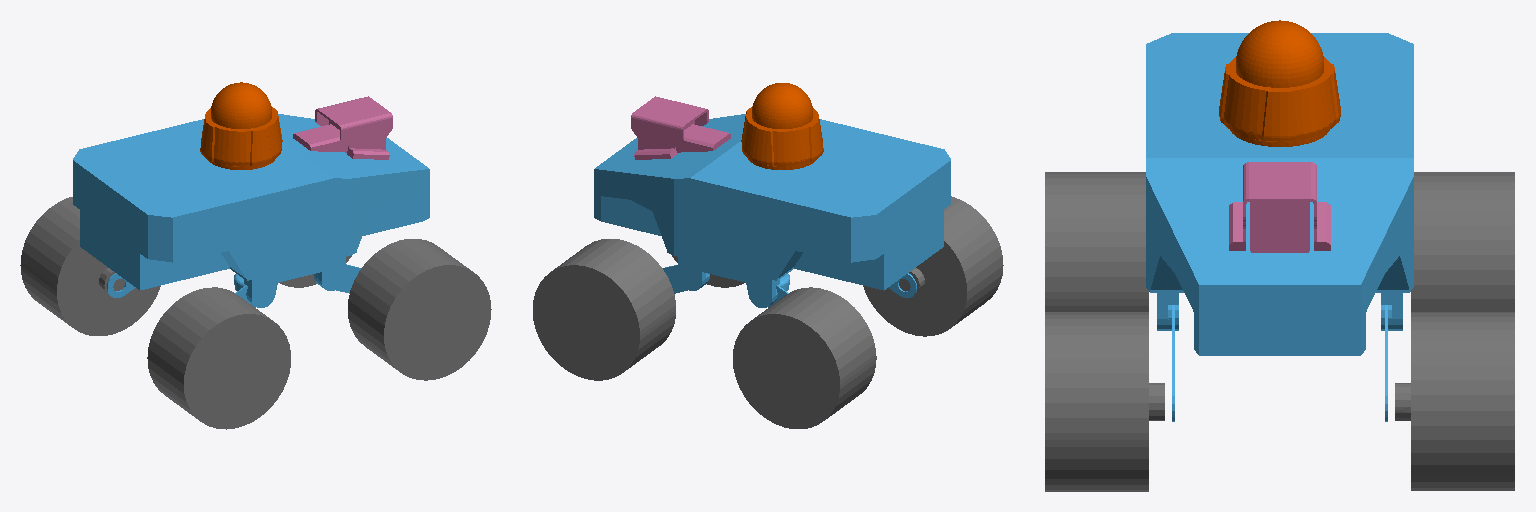
URDF robot description (summit_xl):
<?xml version="1.0" ?>
<!-- =================================================================================== -->
<!-- |    This document was autogenerated by xacro from summit_xl_fotonic.urdf.xacro   | -->
<!-- |    EDITING THIS FILE BY HAND IS NOT RECOMMENDED                                 | -->
<!-- =================================================================================== -->
<robot name="summit_xl" xmlns:xacro="http://www.ros.org/wiki/xacro">
  <!-- Import all Gazebo-customization elements, including Gazebo colors -->
  <gazebo>
    <plugin filename="libgazebo_ros_control.so" name="ros_control">
      <robotNamespace>/summit_xl</robotNamespace>
      <controlPeriod>0.001</controlPeriod>
      <robotSimType>gazebo_ros_control/DefaultRobotHWSim</robotSimType>
    </plugin>
  </gazebo>
  <gazebo reference="base_footprint">
    <material>Gazebo/Green</material>
  </gazebo>
  <gazebo reference="base_link">
    <material>Gazebo/Red</material>
  </gazebo>
  <gazebo reference="back_left_wheel">
    <mu1 value="4.0"/>
    <!-- 2.0 -->
    <mu2 value="1.0"/>
    <!-- 0.5 -->
    <fdir1 value="1 0 0"/>
    <material>Gazebo/Grey</material>
  </gazebo>
  <gazebo reference="back_right_wheel">
    <mu1 value="4.0"/>
    <!-- 2.0 -->
    <mu2 value="1.0"/>
    <!-- 0.5 -->
    <fdir1 value="1 0 0"/>
    <material>Gazebo/Grey</material>
  </gazebo>
  <gazebo reference="front_left_wheel">
    <mu1 value="4.0"/>
    <!-- 2.0 -->
    <mu2 value="1.0"/>
    <!-- 0.5 -->
    <fdir1 value="1 0 0"/>
    <material>Gazebo/Grey</material>
  </gazebo>
  <gazebo reference="front_right_wheel">
    <mu1 value="4.0"/>
    <!-- 2.0 -->
    <mu2 value="1.0"/>
    <!-- 0.5 -->
    <fdir1 value="1 0 0"/>
    <material>Gazebo/Grey</material>
  </gazebo>
  <gazebo reference="gps_link">
    <material>Gazebo/White</material>
    <gravity>true</gravity>
  </gazebo>
  <gazebo reference="camera_link">
    <mu1>0.2</mu1>
    <mu2>0.2</mu2>
    <material>Gazebo/Red</material>
    <sensor name="camera1" type="camera">
      <update_rate>30.0</update_rate>
      <camera name="head">
        <horizontal_fov>1.3962634</horizontal_fov>
        <image>
          <width>800</width>
          <height>800</height>
          <format>R8G8B8</format>
        </image>
        <clip>
          <near>0.02</near>
          <far>300</far>
        </clip>
        <noise>
          <type>gaussian</type>
          <!-- Noise is sampled independently per pixel on each frame.  
               That pixel's noise value is added to each of its color
               channels, which at that point lie in the range [0,1]. -->
          <mean>0.0</mean>
          <stddev>0.007</stddev>
        </noise>
      </camera>
      <plugin filename="libgazebo_ros_camera.so" name="camera_controller">
        <alwaysOn>true</alwaysOn>
        <updateRate>0.0</updateRate>
        <cameraName>/summit_xl/camera1</cameraName>
        <imageTopicName>image_raw</imageTopicName>
        <cameraInfoTopicName>camera_info</cameraInfoTopicName>
        <frameName>camera_link</frameName>
        <hackBaseline>0.07</hackBaseline>
        <distortionK1>0.0</distortionK1>
        <distortionK2>0.0</distortionK2>
        <distortionK3>0.0</distortionK3>
        <distortionT1>0.0</distortionT1>
        <distortionT2>0.0</distortionT2>
      </plugin>
    </sensor>
  </gazebo>
  <gazebo reference="hokuyo_laser_link">
    <!-- sensor type="gpu_ray" name="head_hokuyo_sensor" -->
    <sensor name="head_hokuyo_sensor" type="ray">
      <pose>0 0 0 0 0 0</pose>
      <visualize>false</visualize>
      <update_rate>30</update_rate>
      <ray>
        <scan>
          <horizontal>
            <samples>720</samples>
            <resolution>1</resolution>
            <min_angle>-1.570796</min_angle>
            <max_angle>1.570796</max_angle>
          </horizontal>
        </scan>
        <range>
          <min>0.10</min>
          <max>30.0</max>
          <resolution>0.01</resolution>
        </range>
        <noise>
          <type>gaussian</type>
          <mean>0.0</mean>
          <stddev>0.01</stddev>
        </noise>
      </ray>
      <!-- plugin name="gazebo_ros_head_hokuyo_controller" filename="libgazebo_ros_gpu_laser.so" -->
      <plugin filename="libgazebo_ros_laser.so" name="gazebo_ros_head_hokuyo_controller">
        <topicName>/scan</topicName>
        <frameName>hokuyo_laser_link</frameName>
      </plugin>
    </sensor>
  </gazebo>
  <gazebo>
    <plugin filename="libgazebo_ros_imu.so" name="ros_imu">
      <robotNamespace>/summit_xl</robotNamespace>
      <topicName>imu_data</topicName>
      <bodyName>imu_link </bodyName>
      <serviceName>/imu_service</serviceName>
      <gaussianNoise>0.001</gaussianNoise>
    </plugin>
  </gazebo>
  <gazebo reference="kinect_depth_frame">
    <sensor name="fotonic" type="depth">
      <update_rate>30.0</update_rate>
      <camera name="fotonic">
        <horizontal_fov>1.221730476</horizontal_fov>
        <!-- 70 deg -->
        <image>
          <width>800</width>
          <!-- 160 -->
          <height>600</height>
          <!-- 120 -->
          <format>R8G8B8</format>
        </image>
        <clip>
          <near>0.05</near>
          <far>7.0</far>
          <!-- outdoor down to 3m depending on luminosity -->
        </clip>
        <noise>
          <type>gaussian</type>
          <mean>0.0</mean>
          <stddev>0.007</stddev>
        </noise>
      </camera>
      <plugin filename="libgazebo_ros_openni_kinect.so" name="kinect_depth_optical_frame_controller">
        <baseline>0.2</baseline>
        <alwaysOn>true</alwaysOn>
        <updateRate>1.0</updateRate>
        <cameraName>fotonic_3dcamera</cameraName>
        <imageTopicName>/fotonic_3dcamera/image_raw</imageTopicName>
        <cameraInfoTopicName>/fotonic/depth/camera_info</cameraInfoTopicName>
        <depthImageTopicName>/fotonic/depth/image_raw</depthImageTopicName>
        <depthImageInfoTopicName>/fotonic_3dcamera/depth/camera_info</depthImageInfoTopicName>
        <depthImageCameraInfoTopicName>/fotonic_3dcamera/camera_info</depthImageCameraInfoTopicName>
        <pointCloudTopicName>/fotonic_3dcamera/depth/points</pointCloudTopicName>
        <frameName>kinect_depth_optical_frame</frameName>
        <pointCloudCutoff>0.5</pointCloudCutoff>
        <distortionK1>0.00000001</distortionK1>
        <distortionK2>0.00000001</distortionK2>
        <distortionK3>0.00000001</distortionK3>
        <distortionT1>0.00000001</distortionT1>
        <distortionT2>0.00000001</distortionT2>
        <CxPrime>0</CxPrime>
        <Cx>0</Cx>
        <Cy>0</Cy>
        <focalLength>0</focalLength>
        <hackBaseline>0</hackBaseline>
      </plugin>
    </sensor>
  </gazebo>
  <!-- Constants for robot dimensions -->
  <!-- x,y,z in base_footprint CS -->
  <!-- Used for fixing robot to Gazebo 'base_link' -->
  <!-- link name="world"/>
  <joint name="fwf" type="planar">
    <parent link="world"/>
    <child link="base_footprint"/>
  </joint -->
  <!-- BASE FOOTPRINT -->
  <!-- base_footprint is a fictitious link(frame) that is on the ground right below base_link origin,
             navigation stack depends on this frame -->
  <link name="base_footprint">
    <visual>
      <origin rpy="0 0 0" xyz="0 0 0"/>
      <geometry>
        <box size="0.001 0.001 0.001"/>
      </geometry>
    </visual>
    <collision>
      <origin rpy="0 0 0" xyz="0 0 0"/>
      <geometry>
        <box size="0.001 0.001 0.001"/>
      </geometry>
    </collision>
  </link>
  <joint name="base_footprint_joint" type="fixed">
    <!--NB: While you would think this would make it go up, it is oddly reversed.
      This moves the joint to 0,0,0 where we want it for rviz, etc. -->
    <origin rpy="0 0 0" xyz="0 0 0.050"/>
    <parent link="base_footprint"/>
    <child link="base_link"/>
  </joint>
  <!-- BASE_LINK (RED) -->
  <link name="base_link">
    <inertial>
      <mass value="25.0"/>
      <origin xyz="0 0 0"/>
      <inertia ixx="1.391" ixy="0.004" ixz="0.0" iyy="6.853" iyz="0.0" izz="6.125"/>
    </inertial>
    <visual>
      <origin rpy="0 0 0" xyz="0 0 0"/>
      <geometry>
        <mesh filename="package://summit_xl_description/meshes/xl_fotonic/chassis.dae"/>
      </geometry>
    </visual>
    <collision>
      <origin rpy="0 0 0 " xyz="0 0 0"/>
      <geometry>
        <mesh filename="package://summit_xl_description/meshes/xl_fotonic/chassis.dae"/>
        <box size="0.750 0.4 0.3"/>
      </geometry>
    </collision>
  </link>
  <gazebo reference="base_link">
    <material>Gazebo/Red</material>
    <gravity>true</gravity>
  </gazebo>
  <!-- BACK LEFT WHEEL (GREY) -->
  <link name="back_left_wheel">
    <inertial>
      <mass value="1.250"/>
      <origin xyz="0 0 0"/>
      <inertia ixx="0.0109375" ixy="0.0" ixz="0.0" iyy="0.021125" iyz="0.0" izz="0.0109375"/>
    </inertial>
    <visual>
      <origin rpy="0 0 0" xyz="0 0 0"/>
      <geometry>
        <mesh filename="package://summit_xl_description/meshes/xl_fotonic/wheel.dae" scale="1.0 1.0 1.0"/>
      </geometry>
      <material name="grey">
        <color rgba="0.5 0.5 0.5 1"/>
      </material>
    </visual>
    <collision>
      <origin rpy="0 0 0" xyz="0 0 0"/>
      <geometry>
        <mesh filename="package://summit_xl_description/meshes/xl_fotonic/wheel.dae" scale="1.0 1.0 1.0"/>
      </geometry>
    </collision>
  </link>
  <joint name="joint_back_left_wheel" type="continuous">
    <parent link="base_link"/>
    <child link="back_left_wheel"/>
    <origin rpy="0 0 0" xyz="-0.223 0.154 0"/>
    <axis rpy="0 0 0" xyz="0 1 0"/>
    <limit effort="100.0" velocity="100.0"/>
    <joint_properties damping="0.0" friction="{wheel_joint_friction}"/>
  </joint>
  <transmission name="joint_blw_trans">
    <type>transmission_interface/SimpleTransmission</type>
    <joint name="joint_back_left_wheel"/>
    <actuator name="joint_blw_motor">
      <hardwareInterface>EffortJointInterface</hardwareInterface>
      <!-- hardwareInterface>VelocityJointInterface</hardwareInterface -->
      <mechanicalReduction>1.0</mechanicalReduction>
      <!-- motorTorqueConstant>1</motorTorqueConstant -->
    </actuator>
  </transmission>
  <!-- BACK RIGHT WHEEL (GREY) -->
  <link name="back_right_wheel">
    <inertial>
      <mass value="1.250"/>
      <origin xyz="0 0 0"/>
      <inertia ixx="0.0109375" ixy="0.0" ixz="0.0" iyy="0.021125" iyz="0.0" izz="0.0109375"/>
    </inertial>
    <visual>
      <origin rpy="0 0 0" xyz="0 0 0"/>
      <geometry>
        <mesh filename="package://summit_xl_description/meshes/xl_fotonic/wheel.dae" scale="1.0 1.0 1.0"/>
        <!-- cylinder radius="0.125" length="0.1"/ -->
      </geometry>
      <material name="grey">
        <color rgba="0.5 0.5 0.5 1"/>
      </material>
    </visual>
    <collision>
      <origin rpy="0 0 0" xyz="0 0 0"/>
      <geometry>
        <mesh filename="package://summit_xl_description/meshes/xl_fotonic/wheel.dae" scale="1.0 1.0 1.0"/>
        <!-- cylinder radius="0.125" length="0.1"/ -->
      </geometry>
    </collision>
  </link>
  <joint name="joint_back_right_wheel" type="continuous">
    <parent link="base_link"/>
    <child link="back_right_wheel"/>
    <origin rpy="0 0 3.1416" xyz="-0.223 -0.154 0"/>
    <axis rpy="0 0 0" xyz="0 1 0"/>
    <limit effort="100.0" velocity="100.0"/>
    <joint_properties damping="0.0" friction="{wheel_joint_friction}"/>
  </joint>
  <transmission name="joint_brw_trans">
    <type>transmission_interface/SimpleTransmission</type>
    <joint name="joint_back_right_wheel"/>
    <actuator name="joint_brw_motor">
      <hardwareInterface>EffortJointInterface</hardwareInterface>
      <!-- hardwareInterface>VelocityJointInterface</hardwareInterface -->
      <mechanicalReduction>1.0</mechanicalReduction>
      <!-- motorTorqueConstant>1</motorTorqueConstant -->
    </actuator>
  </transmission>
  <!-- FRONT LEFT WHEEL (GREY) -->
  <link name="front_left_wheel">
    <inertial>
      <mass value="1.250"/>
      <origin xyz="0 0 0"/>
      <inertia ixx="0.0109375" ixy="0.0" ixz="0.0" iyy="0.021125" iyz="0.0" izz="0.0109375"/>
    </inertial>
    <visual>
      <origin rpy="0 0 0" xyz="0 0 0"/>
      <geometry>
        <mesh filename="package://summit_xl_description/meshes/xl_fotonic/wheel.dae" scale="1.0 1.0 1.0"/>
        <!-- cylinder radius="0.125" length="0.1"/ -->
      </geometry>
      <material name="grey">
        <color rgba="0.5 0.5 0.5 1"/>
      </material>
    </visual>
    <collision>
      <origin rpy="0 0 0" xyz="0 0 0"/>
      <geometry>
        <mesh filename="package://summit_xl_description/meshes/xl_fotonic/wheel.dae" scale="1.0 1.0 1.0"/>
        <!-- cylinder radius="0.125" length="0.1"/ -->
      </geometry>
    </collision>
  </link>
  <joint name="joint_front_left_wheel" type="continuous">
    <parent link="base_link"/>
    <child link="front_left_wheel"/>
    <origin rpy="0 0 0" xyz="0.223 0.154 0"/>
    <axis rpy="0 0 0" xyz="0 1 0"/>
    <limit effort="100.0" velocity="100.0"/>
    <joint_properties damping="0.0" friction="{wheel_joint_friction}"/>
  </joint>
  <transmission name="joint_flw_trans">
    <type>transmission_interface/SimpleTransmission</type>
    <joint name="joint_front_left_wheel"/>
    <actuator name="joint_flw_motor">
      <hardwareInterface>EffortJointInterface</hardwareInterface>
      <!-- hardwareInterface>VelocityJointInterface</hardwareInterface -->
      <mechanicalReduction>1.0</mechanicalReduction>
      <!-- motorTorqueConstant>1</motorTorqueConstant -->
    </actuator>
  </transmission>
  <!-- FRONT RIGHT WHEEL (GREY) -->
  <link name="front_right_wheel">
    <inertial>
      <mass value="1.250"/>
      <origin xyz="0 0 0"/>
      <inertia ixx="0.0109375" ixy="0.0" ixz="0.0" iyy="0.021125" iyz="0.0" izz="0.0109375"/>
    </inertial>
    <visual>
      <origin rpy="0 0 0" xyz="0 0 0"/>
      <geometry>
        <mesh filename="package://summit_xl_description/meshes/xl_fotonic/wheel.dae" scale="1.0 1.0 1.0"/>
      </geometry>
      <material name="grey">
        <color rgba="0.5 0.5 0.5 1"/>
      </material>
    </visual>
    <collision>
      <origin rpy="0 0 0" xyz="0 0 0"/>
      <geometry>
        <mesh filename="package://summit_xl_description/meshes/xl_fotonic/wheel.dae" scale="1.0 1.0 1.0"/>
      </geometry>
    </collision>
  </link>
  <joint name="joint_front_right_wheel" type="continuous">
    <parent link="base_link"/>
    <child link="front_right_wheel"/>
    <origin rpy="0 0 3.1416" xyz="0.223 -0.154 0"/>
    <axis rpy="0 0 0" xyz="0 1 0"/>
    <limit effort="100.0" velocity="100.0"/>
    <joint_properties damping="0.0" friction="{wheel_joint_friction}"/>
  </joint>
  <transmission name="joint_frw_trans">
    <type>transmission_interface/SimpleTransmission</type>
    <joint name="joint_front_right_wheel"/>
    <actuator name="joint_frw_motor">
      <hardwareInterface>EffortJointInterface</hardwareInterface>
      <!-- hardwareInterface>VelocityJointInterface</hardwareInterface -->
      <mechanicalReduction>1.0</mechanicalReduction>
      <!-- motorTorqueConstant>1</motorTorqueConstant -->
    </actuator>
    <!-- motorTorqueConstant>1</motorTorqueConstant -->
  </transmission>
  <!-- FOTONIC 3D TOF LASER SENSOR -->
  <joint name="fotonic_laser_joint" type="fixed">
    <axis xyz="0 0 1"/>
    <origin xyz="0.0 0.0 0.0"/>
    <!-- geometric origin of the part -->
    <parent link="base_link"/>
    <child link="kinect_link"/>
  </joint>
  <link name="kinect_link">
    <inertial>
      <mass value="0.0001"/>
      <origin xyz="0 0 0"/>
      <inertia ixx="0.0001" ixy="0.0" ixz="0.0" iyy="0.0001" iyz="0.0" izz="0.0001"/>
    </inertial>
    <visual>
      <origin rpy="0 0 0" xyz="0 0 0"/>
      <geometry>
        <mesh filename="package://summit_xl_description/meshes/xl_fotonic/fotonic.dae" scale="1.0 1.0 1.0"/>
      </geometry>
    </visual>
    <collision>
      <origin rpy="0 0 0" xyz="0 0 0"/>
      <geometry>
        <mesh filename="package://summit_xl_description/meshes/xl_fotonic/fotonic.dae" scale="1.0 1.0 1.0"/>
      </geometry>
    </collision>
  </link>
  <joint name="kinect_depth_joint" type="fixed">
    <origin rpy="0 0 0" xyz="0.275 0 0.260"/>
    <parent link="kinect_link"/>
    <child link="kinect_depth_frame"/>
  </joint>
  <link name="kinect_depth_frame">
    <inertial>
      <mass value="0.0001"/>
      <origin xyz="0 0 0"/>
      <inertia ixx="0.0001" ixy="0.0" ixz="0.0" iyy="0.0001" iyz="0.0" izz="0.0001"/>
    </inertial>
  </link>
  <joint name="depth_optical_joint" type="fixed">
    <origin rpy="-1.5708 0 -1.5708" xyz="0 0 0"/>
    <parent link="kinect_depth_frame"/>
    <child link="kinect_depth_optical_frame"/>
  </joint>
  <link name="kinect_depth_optical_frame">
    <inertial>
      <mass value="0.0001"/>
      <origin xyz="0 0 0"/>
      <inertia ixx="0.0001" ixy="0.0" ixz="0.0" iyy="0.0001" iyz="0.0" izz="0.0001"/>
    </inertial>
  </link>
  <!-- ANTENNA GPS -->
  <joint name="gps_antenna_joint" type="fixed">
    <axis xyz="0 1 0"/>
    <origin xyz="0.0 0.0 0.0"/>
    <parent link="base_link"/>
    <!-- child link="gps_antenna_link"/ -->
    <child link="gps_link"/>
  </joint>
  <link name="gps_link">
    <inertial>
      <mass value="0.001"/>
      <origin rpy="0 0 0" xyz="0 0 0"/>
      <inertia ixx="0.0001" ixy="0" ixz="0" iyy="0.000001" iyz="0" izz="0.0001"/>
    </inertial>
    <visual>
      <origin rpy="0 0 0" xyz="0 0 0"/>
      <geometry>
        <mesh filename="package://summit_xl_description/meshes/xl_fotonic/antenna_3GO16.dae" scale="1.0 1.0 1.0"/>
      </geometry>
    </visual>
    <collision>
      <origin rpy="0 0 0" xyz="0 0 0"/>
      <geometry>
        <mesh filename="package://summit_xl_description/meshes/xl_fotonic/antenna_3GO16.dae" scale="1.0 1.0 1.0"/>
      </geometry>
    </collision>
  </link>
  <!-- HOKUYO SENSOR -->
  <joint name="hokuyo_laser_joint" type="fixed">
    <axis xyz="0 1 0"/>
    <origin xyz="0.29 0 0.1"/>
    <parent link="base_link"/>
    <child link="hokuyo_laser_link"/>
  </joint>
  <link name="hokuyo_laser_link" type="laser">
    <inertial>
      <mass value="0.001"/>
      <origin rpy="0 0 0" xyz="0 0 0"/>
      <inertia ixx="0.0001" ixy="0" ixz="0" iyy="0.000001" iyz="0" izz="0.0001"/>
    </inertial>
  </link>
  <!-- This adds a visual box to allow us to see the Hokuyo in rviz/gazebo -->
  <joint name="hokuyo_laser_box_joint" type="fixed">
    <origin rpy="0 0 0" xyz="0 0 0"/>
    <parent link="hokuyo_laser_link"/>
    <child link="hokuyo_laser_box_link"/>
  </joint>
  <link name="hokuyo_laser_box_link">
    <inertial>
      <mass value="0.01"/>
      <origin xyz="0 0 0"/>
      <inertia ixx="0.001" ixy="0.0" ixz="0.0" iyy="0.001" iyz="0.0" izz="0.001"/>
    </inertial>
    <visual>
      <origin rpy="0 0 0" xyz="0 0 0"/>
      <geometry>
        <!-- mesh filename= "package://pr2_description/meshes/tilting_laser_v0/hok_tilt.stl" scale="0.5 0.5 0.5"/ -->
        <mesh filename="package://summit_xl_description/meshes/hokuyo-utm30-lx.dae" scale="1.0 1.0 1.0"/>
      </geometry>
    </visual>
    <collision>
      <origin rpy="0 0 0" xyz="0 0 0"/>
      <geometry>
        <box size="0.05 0.05 0.1"/>
      </geometry>
    </collision>
  </link>
  <gazebo reference="hokuyo_laser_box_link">
    <material>Gazebo/Grey</material>
    <gravity>true</gravity>
  </gazebo>
  <!-- IMU SENSOR -->
  <joint name="imu_joint" type="fixed">
    <axis xyz="1 0 0"/>
    <!-- 0 1 0 -->
    <origin xyz="0 0 0.2825"/>
    <parent link="base_link"/>
    <child link="imu_link"/>
  </joint>
  <link name="imu_link">
    <inertial>
      <mass value="0.001"/>
      <origin rpy="0 0 0" xyz="0 0 0"/>
      <inertia ixx="0.0001" ixy="0" ixz="0" iyy="0.000001" iyz="0" izz="0.0001"/>
    </inertial>
    <visual>
      <origin rpy="0 0 0" xyz="0 0 0"/>
      <geometry>
        <box size="0.001 0.001 0.001"/>
      </geometry>
    </visual>
    <collision>
      <origin rpy="0 0 0" xyz="0 0 0"/>
      <geometry>
        <box size=".001 .001 .001"/>
      </geometry>
    </collision>
  </link>
  <!--joint name="kinect_joint" type="revolute">
    <child>kinect::link</child>
    <parent>chassis</parent>
    <axis>
      <xyz>0 0 1</xyz>
      <limit>
        <upper>0</upper>
        <lower>0</lower>
      </limit>
    </axis>
  </joint -->
  <!-- AXIS CAMERA PTZ -->
  <joint name="camera_joint" type="fixed">
    <axis xyz="0 1 0"/>
    <origin xyz="0.0 0.0 0.0"/>
    <parent link="base_link"/>
    <child link="camera_link"/>
  </joint>
  <link name="camera_link" type="camera">
    <inertial>
      <mass value="0.001"/>
      <origin rpy="0 0 0" xyz="0 0 0"/>
      <inertia ixx="0.0001" ixy="0" ixz="0" iyy="0.000001" iyz="0" izz="0.0001"/>
    </inertial>
    <visual>
      <origin rpy="0 0 0" xyz="0 0 0"/>
      <geometry>
        <mesh filename="package://summit_xl_description/meshes/xl_fotonic/axis_p5512.dae" scale="1.0 1.0 1.0"/>
      </geometry>
    </visual>
    <collision>
      <origin rpy="0 0 0" xyz="0 0 0"/>
      <geometry>
        <mesh filename="package://summit_xl_description/meshes/xl_fotonic/axis_p5512.dae" scale="1.0 1.0 1.0"/>
      </geometry>
    </collision>
  </link>
</robot>

--- Facts derived from the render (not from the file) ---
The picture shows the robot from 3 angles, left to right: view 1: azimuth 30°, elevation 25°; view 2: azimuth 150°, elevation 25°; view 3: azimuth 270°, elevation 25°; orthographic projection.
Model summit_xl with 14 links and 13 joints (4 continuous, 9 fixed), rooted at base_footprint, posed every joint at zero.
Visible links, largest first — view 1: base_link, back_right_wheel, front_right_wheel, back_left_wheel, camera_link, kinect_link; view 2: base_link, back_left_wheel, front_left_wheel, back_right_wheel, camera_link, kinect_link; view 3: base_link, front_right_wheel, front_left_wheel, back_left_wheel, back_right_wheel, camera_link, kinect_link.
Boxes of the visible links, x1,y1,x2,y2 form: base_link: (73,114,429,307); back_right_wheel: (147,287,290,429); front_right_wheel: (348,239,491,380); back_left_wheel: (20,197,160,335); camera_link: (200,82,282,169); kinect_link: (293,96,392,159); base_link: (594,114,950,307); back_left_wheel: (733,287,876,428); front_left_wheel: (533,239,675,380); back_right_wheel: (863,196,1003,336); camera_link: (741,83,823,169); kinect_link: (631,96,730,159); base_link: (1146,33,1413,421); front_right_wheel: (1045,312,1164,491); front_left_wheel: (1395,312,1514,490); back_left_wheel: (1411,172,1514,311); back_right_wheel: (1045,172,1148,311); camera_link: (1219,20,1340,146); kinect_link: (1229,162,1330,252).
Size in the robot's own frame: 0.686 by 0.63 by 0.558 metres.
Meshes: 6 distinct files referenced, 8 mesh visuals loaded (5 Collada DAE); not drawn: 1 (reference not matched to a file when rendering).
